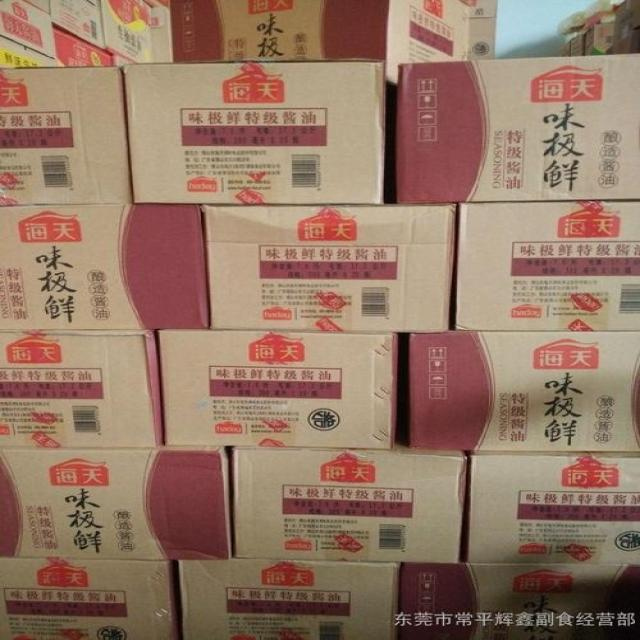box: (120, 62, 397, 205), (392, 56, 639, 204), (199, 203, 455, 332), (397, 332, 639, 452), (161, 330, 395, 449), (231, 449, 464, 564), (0, 204, 210, 330), (0, 448, 230, 559), (454, 201, 639, 332), (463, 451, 639, 563), (0, 327, 162, 447), (394, 563, 639, 639), (176, 557, 399, 639), (0, 68, 131, 206), (0, 558, 179, 639), (102, 2, 171, 63), (0, 1, 58, 59), (53, 24, 114, 65), (51, 1, 105, 47), (0, 38, 60, 68), (23, 1, 53, 14)
